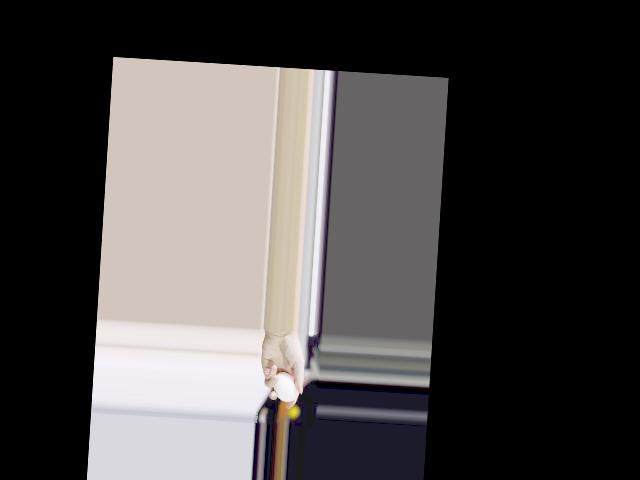egg: (272, 372, 298, 403)
